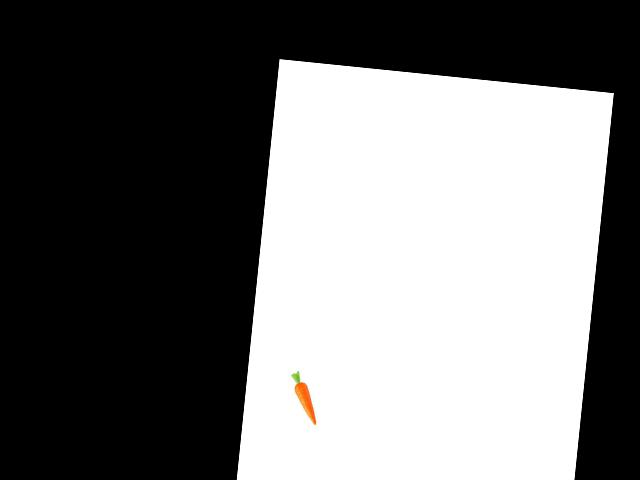carrot: (291, 376, 323, 427)
